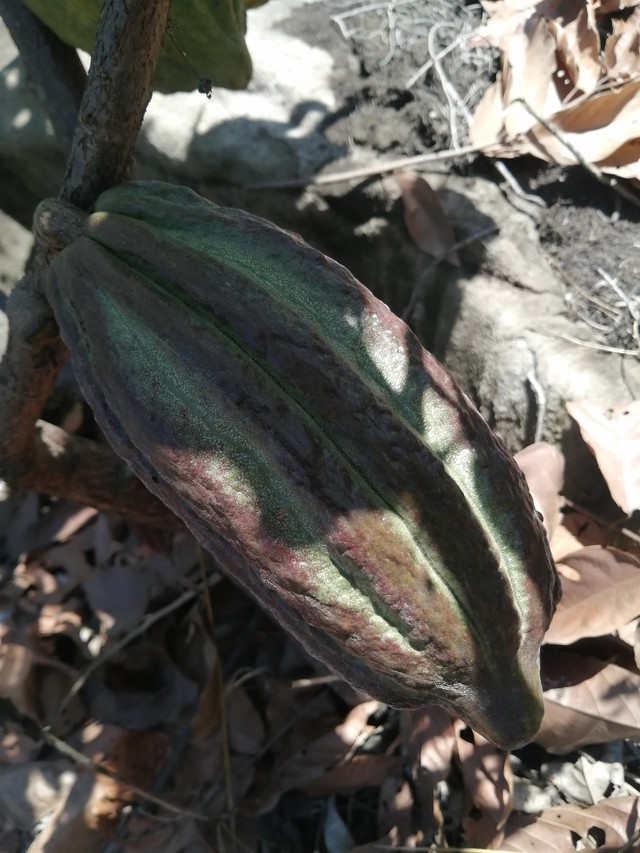Health: (40, 169, 563, 761)
